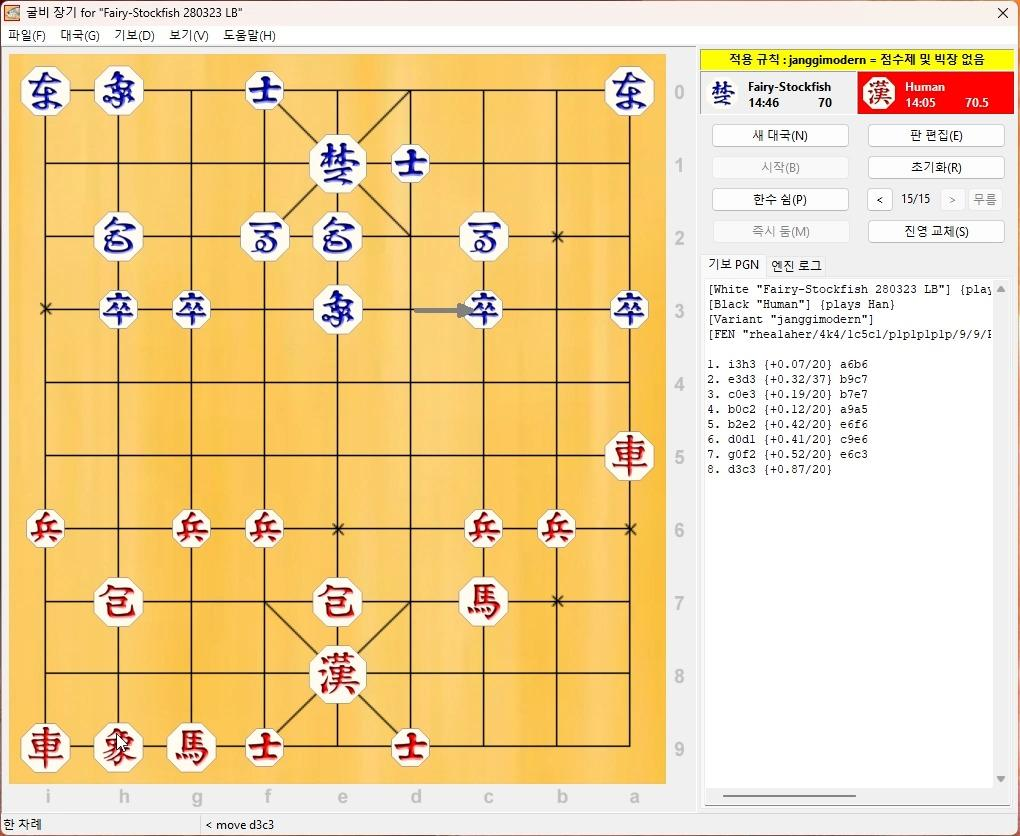cha_green: (603, 68, 652, 115), (21, 69, 69, 113)
cha_red: (604, 433, 655, 479), (20, 727, 69, 773)
jol_green: (463, 292, 504, 328), (172, 292, 211, 328), (100, 292, 139, 327), (610, 291, 649, 326)
jol_red: (464, 509, 502, 549), (537, 511, 578, 547), (24, 512, 65, 547), (171, 510, 209, 547), (246, 511, 285, 546)
ma_green: (240, 214, 290, 260), (461, 214, 509, 260)
ma_red: (167, 724, 217, 773), (459, 579, 508, 625)
po_green: (313, 214, 362, 259), (93, 214, 142, 259)
po_red: (95, 577, 144, 627), (315, 577, 364, 623)
sa_green: (247, 72, 284, 111), (390, 146, 431, 180)
sa_red: (391, 728, 430, 766), (245, 730, 286, 764)
sang_green: (94, 68, 143, 114), (313, 287, 361, 332)
sang_red: (93, 724, 144, 770)
wang_green: (311, 135, 369, 188)
wang_red: (311, 649, 368, 701)
